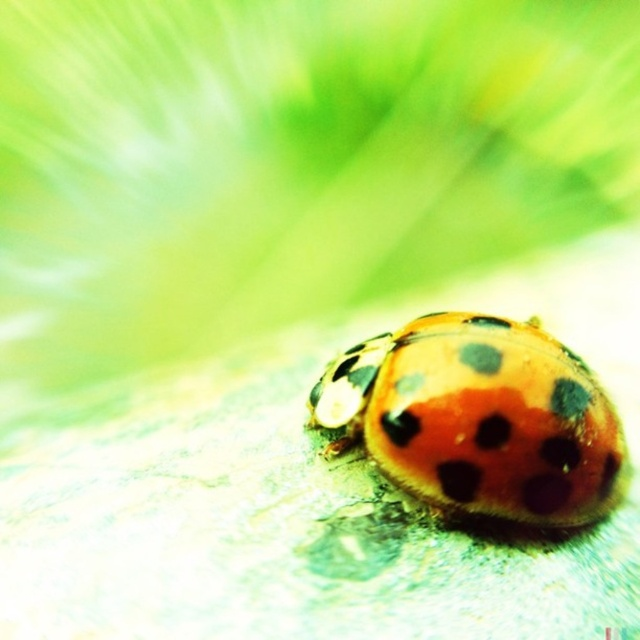Ladybug: (299, 303, 639, 543)
